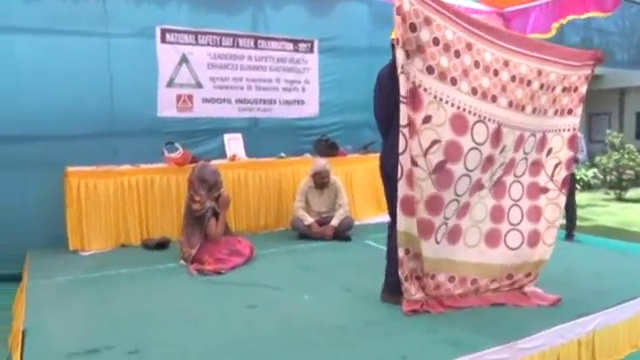helmet_off: (191, 164, 222, 195), (310, 160, 331, 191)
person: (376, 34, 406, 300), (179, 163, 251, 270), (289, 156, 355, 239), (566, 131, 586, 240)
